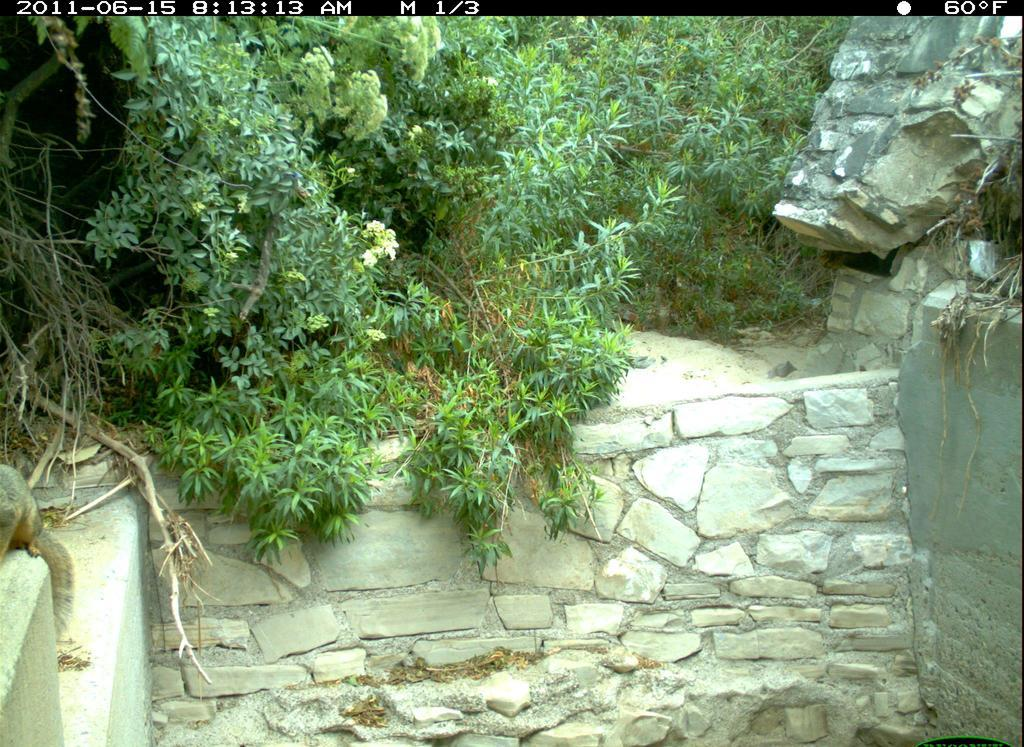squirrel: (1, 451, 86, 652)
